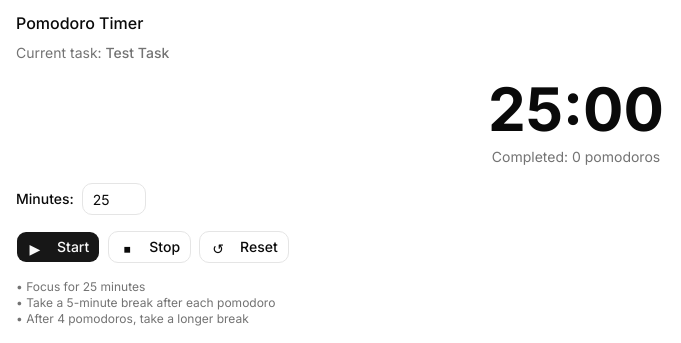
Test: PomodoroTimer Component › Timer controls › should reset timer when Stop is clicked
Click the button "▶ Start" at (58, 247), box x1=16 y1=231 x2=100 y2=263
Wait 1000 ms
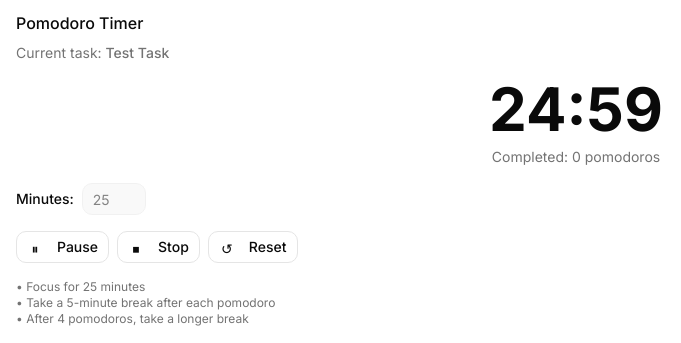
Click the button "⏹ Stop" at (158, 247), box x1=117 y1=231 x2=200 y2=263
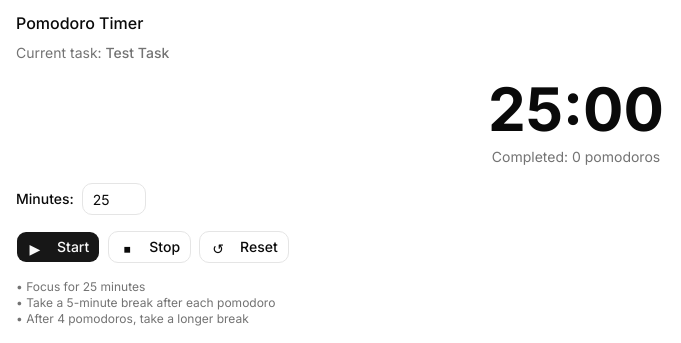
Expected: the text "25:00" is shown, x1=488 y1=73 x2=664 y2=145
